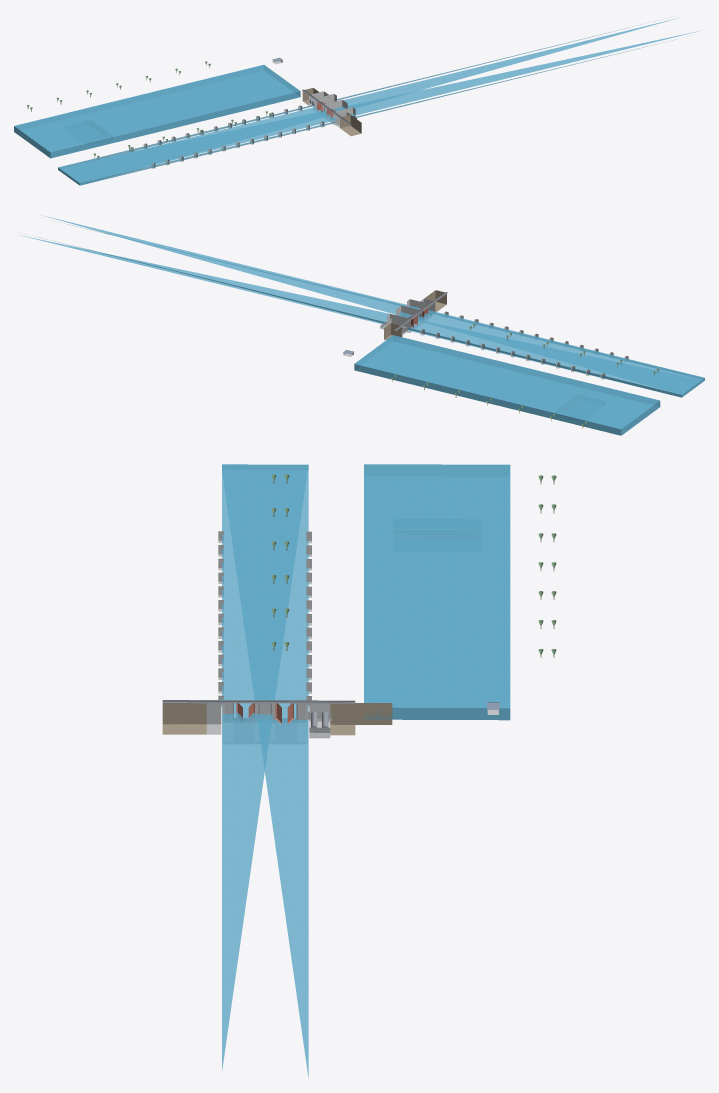
File: qingnian-z2-upstream.glb
3 views of the same model, one above another, from view 1: azimuth 30°, elevation 25°; view 2: azimuth 150°, elevation 25°; view 3: azimuth 270°, elevation 25° (orthographic). The views are drawn at different scales.
Parts seen in each view (by area): view 1: water_water, concrete_structure, concreteLight_structure, earth_structure; view 2: water_water, concrete_structure, concreteLight_structure, earth_structure; view 3: water_water, earth_structure, concrete_structure, concreteLight_structure, concreteDark_structure.
Boxes of the visible parts, x1,y1,x2,y2 form: water_water: (14,18,699,185); concrete_structure: (129,99,349,168); concreteLight_structure: (309,91,355,123); earth_structure: (302,88,361,136); water_water: (20,215,704,435); concrete_structure: (401,299,628,379); concreteLight_structure: (386,299,430,335); earth_structure: (384,290,446,340); water_water: (222,464,510,1078); earth_structure: (162,703,392,735); concrete_structure: (206,531,331,734); concreteLight_structure: (222,702,330,741); concreteDark_structure: (223,718,330,743).
Bounding box in the file's own units: 2000 × 51.4 × 546.
12 materials, 12 textured.
